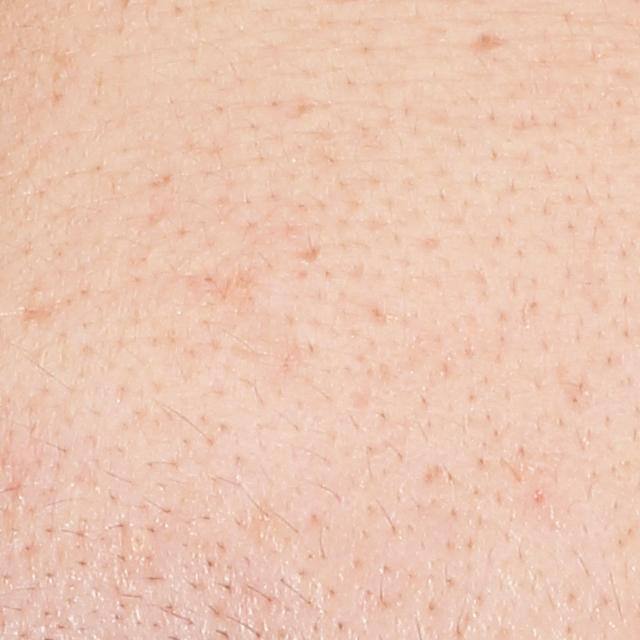atrophic_scar: (463, 29, 508, 50), (295, 243, 321, 260)
